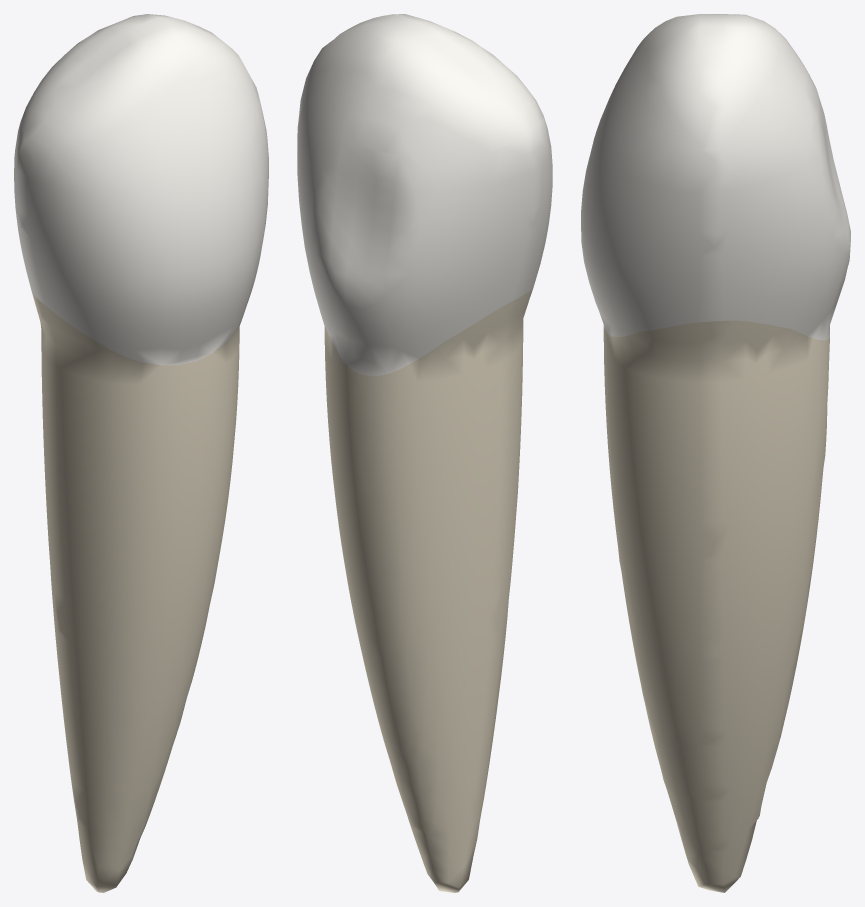
The picture shows the model from 3 angles, left to right: view 1: azimuth 30°, elevation 25°; view 2: azimuth 150°, elevation 25°; view 3: azimuth 270°, elevation 25°; orthographic projection. The views are drawn at different scales.
Parts seen in each view (by area): view 1: root, V, I, D, M; view 2: root, L, I, D, M; view 3: root, M, I, L, V.
Boxes of the visible parts, x1=… form: root: x1=31, y1=291, x2=242, y2=892; V: x1=94, y1=138, x2=264, y2=365; I: x1=20, y1=14, x2=259, y2=170; D: x1=14, y1=124, x2=112, y2=339; M: x1=245, y1=97, x2=268, y2=243; root: x1=322, y1=289, x2=532, y2=892; L: x1=302, y1=134, x2=452, y2=375; I: x1=303, y1=14, x2=543, y2=166; D: x1=444, y1=116, x2=552, y2=341; M: x1=297, y1=82, x2=313, y2=259; root: x1=603, y1=320, x2=829, y2=892; M: x1=621, y1=145, x2=801, y2=331; I: x1=612, y1=14, x2=818, y2=150; L: x1=792, y1=95, x2=850, y2=340; V: x1=581, y1=85, x2=639, y2=336.
Size of the model in its own units: 4.97 by 17.44 by 4.75.
